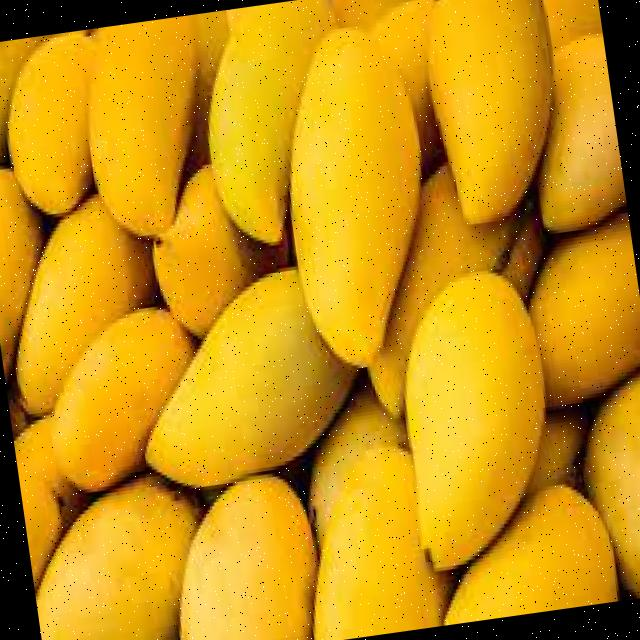mango: (147, 269, 361, 492)
